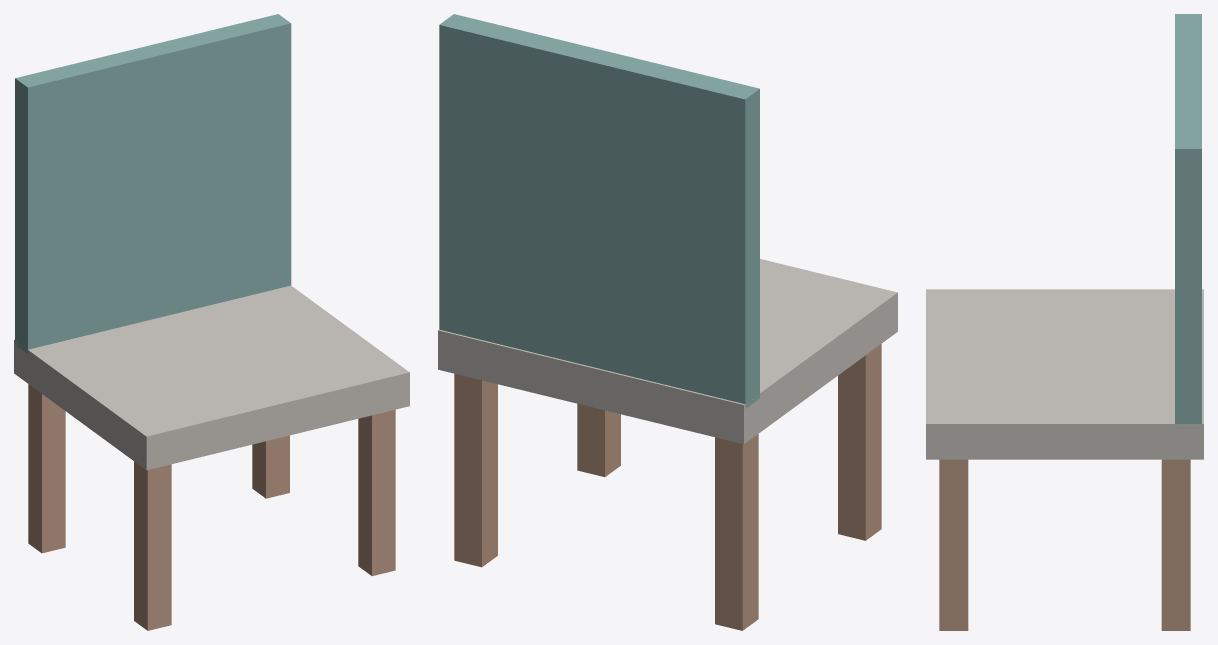
Rendered from ground-truth.glb.
3 views of the same model, side by side, from view 1: azimuth 30°, elevation 25°; view 2: azimuth 150°, elevation 25°; view 3: azimuth 270°, elevation 25° (orthographic). The views are drawn at different scales.
Visible parts, largest first — view 1: original_01, original_00, original_03, original_05, original_02, original_04; view 2: original_01, original_00, original_02, original_04, original_03, original_05; view 3: original_00, original_01, original_04, original_05.
Boxes of the visible parts, x1=… form: original_01: x1=15, y1=14, x2=291, y2=353; original_00: x1=14, y1=285, x2=409, y2=470; original_03: x1=134, y1=461, x2=171, y2=630; original_05: x1=358, y1=409, x2=395, y2=576; original_02: x1=28, y1=384, x2=65, y2=553; original_04: x1=252, y1=435, x2=289, y2=498; original_01: x1=439, y1=14, x2=759, y2=408; original_00: x1=438, y1=259, x2=897, y2=444; original_02: x1=715, y1=434, x2=758, y2=630; original_04: x1=454, y1=373, x2=497, y2=567; original_03: x1=838, y1=344, x2=881, y2=540; original_05: x1=577, y1=403, x2=620, y2=476; original_00: x1=926, y1=289, x2=1203, y2=459; original_01: x1=1175, y1=14, x2=1201, y2=428; original_04: x1=1161, y1=459, x2=1190, y2=630; original_05: x1=939, y1=459, x2=968, y2=630.
Size of the model in its own units: 1.55 by 2.61 by 1.35.
